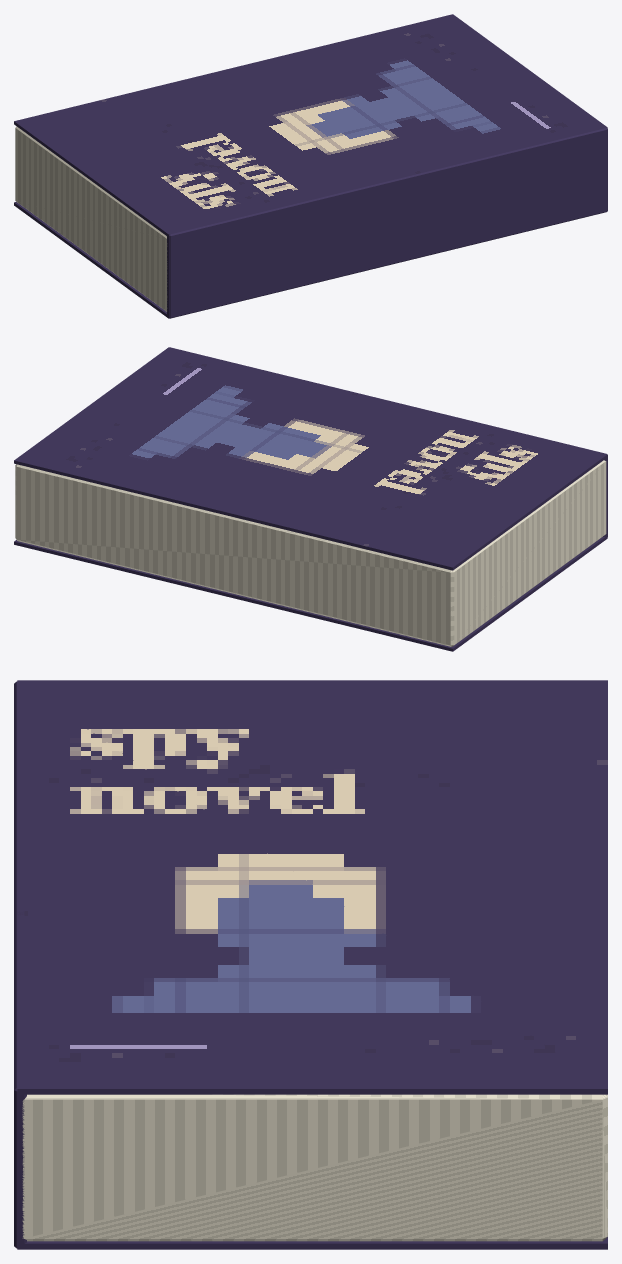
File: novel_spy.glb
3 views of the same model, one above another, from view 1: azimuth 30°, elevation 25°; view 2: azimuth 150°, elevation 25°; view 3: azimuth 270°, elevation 25° (orthographic). The views are drawn at different scales.
Visible parts, largest first — view 1: block_front, block_spine, block_pages, block_back; view 2: block_front, block_pages, block_back, block_spine; view 3: block_front, block_pages, block_spine, block_back.
Part boxes in pixels (bbox=[...]): block_front: bbox=[14, 14, 607, 237]; block_spine: bbox=[167, 128, 607, 318]; block_pages: bbox=[15, 126, 167, 311]; block_back: bbox=[14, 202, 607, 318]; block_front: bbox=[14, 347, 607, 570]; block_pages: bbox=[15, 460, 606, 646]; block_back: bbox=[14, 536, 607, 651]; block_spine: bbox=[168, 347, 607, 536]; block_front: bbox=[17, 680, 607, 1094]; block_pages: bbox=[22, 1094, 607, 1241]; block_spine: bbox=[14, 681, 26, 1248]; block_back: bbox=[17, 1237, 607, 1249].
Size of the model in its own units: 0.18 by 0.033 by 0.1106.
1 material, 1 textured.
